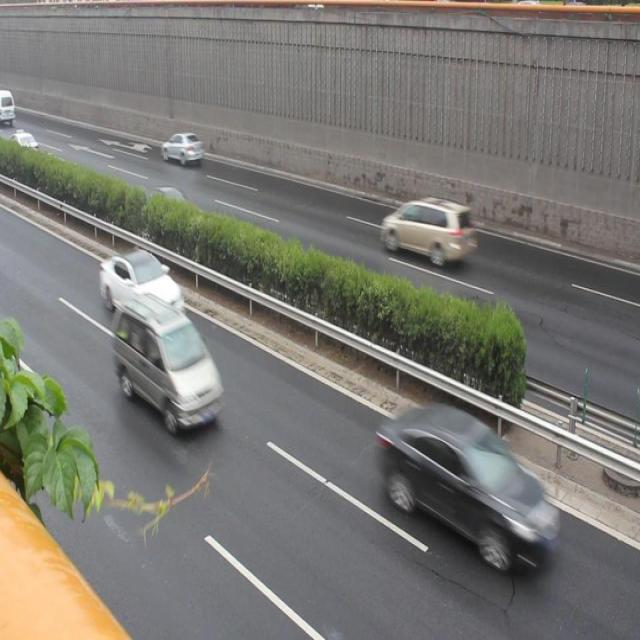car: (372, 404, 562, 586), (97, 243, 190, 328), (145, 178, 195, 228)
truck: (114, 294, 224, 434), (378, 192, 478, 270)
